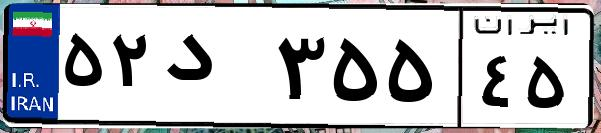2: (110, 28, 158, 98)
3: (270, 28, 330, 110)
4: (475, 38, 525, 113)
5: (385, 28, 445, 110), (330, 28, 385, 110), (57, 26, 110, 100), (525, 38, 570, 115)
د: (158, 20, 270, 120)
